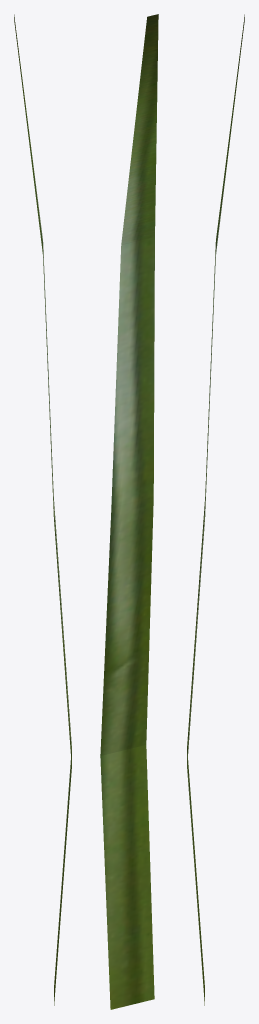
The model's file is grass_tuft_b.glb.
3 views of the same model, side by side, from view 1: azimuth 90°, elevation 25°; view 2: azimuth 210°, elevation 25°; view 3: azimuth 270°, elevation 25° (orthographic). The views are drawn at different scales.
Parts seen in each view (by area): view 1: grass_tuft_b; view 2: grass_tuft_b; view 3: grass_tuft_b.
Boxes of the visible parts, bbox=[...] form: grass_tuft_b: bbox=[14, 14, 71, 1005]; grass_tuft_b: bbox=[100, 14, 158, 1009]; grass_tuft_b: bbox=[187, 14, 244, 1005].
Size of the model in its own units: 0.1615 by 3.37 by 0.1796.
1 material, 1 textured.
